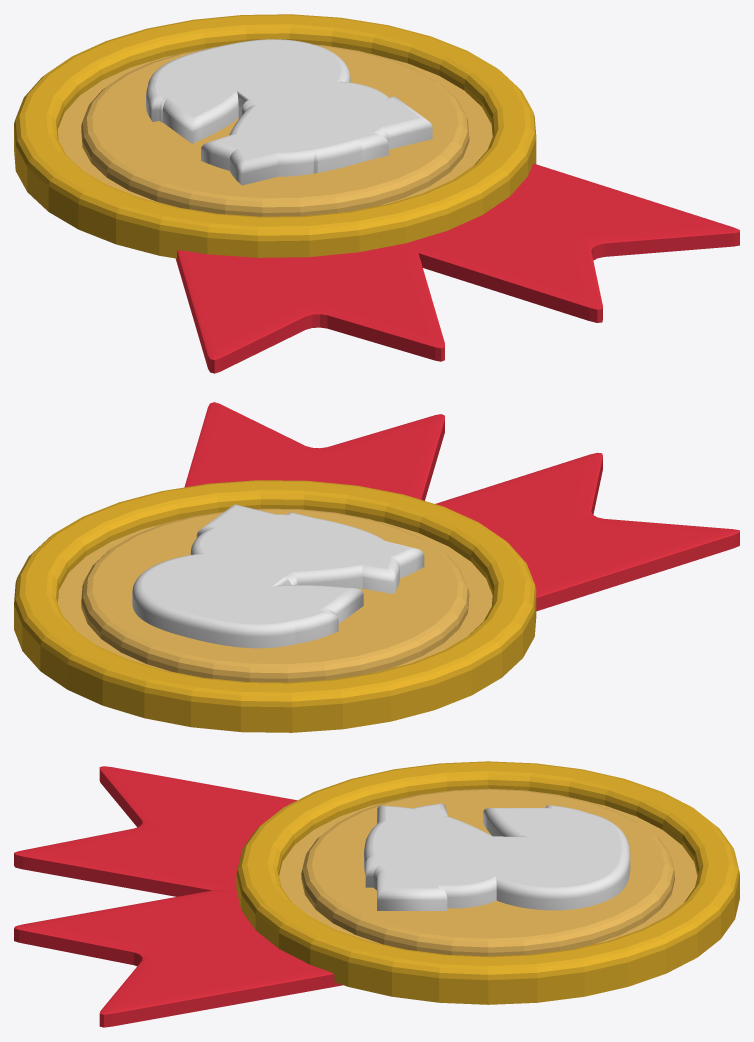
The model's file is Order.fbx.
3 renders of one model, top to bottom at view 1: azimuth 30°, elevation 25°; view 2: azimuth 150°, elevation 25°; view 3: azimuth 270°, elevation 25°, orthographic. The views are drawn at different scales.
Parts seen in each view (by area): view 1: Cube, Text.001, Text, Text.002; view 2: Cube, Text.001, Text, Text.002; view 3: Cube, Text.001, Text, Text.002.
Boxes of the visible parts, x1,y1,x2,y2 form: Cube: [14, 14, 739, 373]; Text.001: [148, 39, 432, 185]; Text: [163, 45, 388, 173]; Text.002: [146, 46, 389, 176]; Cube: [14, 402, 739, 732]; Text.001: [132, 504, 424, 648]; Text: [170, 512, 363, 623]; Text.002: [174, 514, 399, 643]; Cube: [14, 761, 739, 1027]; Text.001: [377, 805, 630, 910]; Text: [365, 808, 609, 887]; Text.002: [364, 803, 587, 908].
Bounding box in the file's own units: 2.34 × 0.2581 × 2.88.
